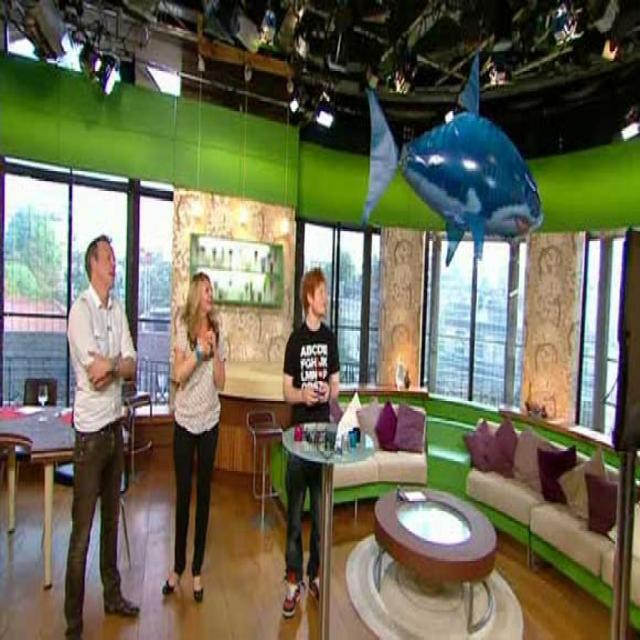nomask: (96, 240, 116, 287), (312, 281, 327, 315), (201, 278, 213, 310)
